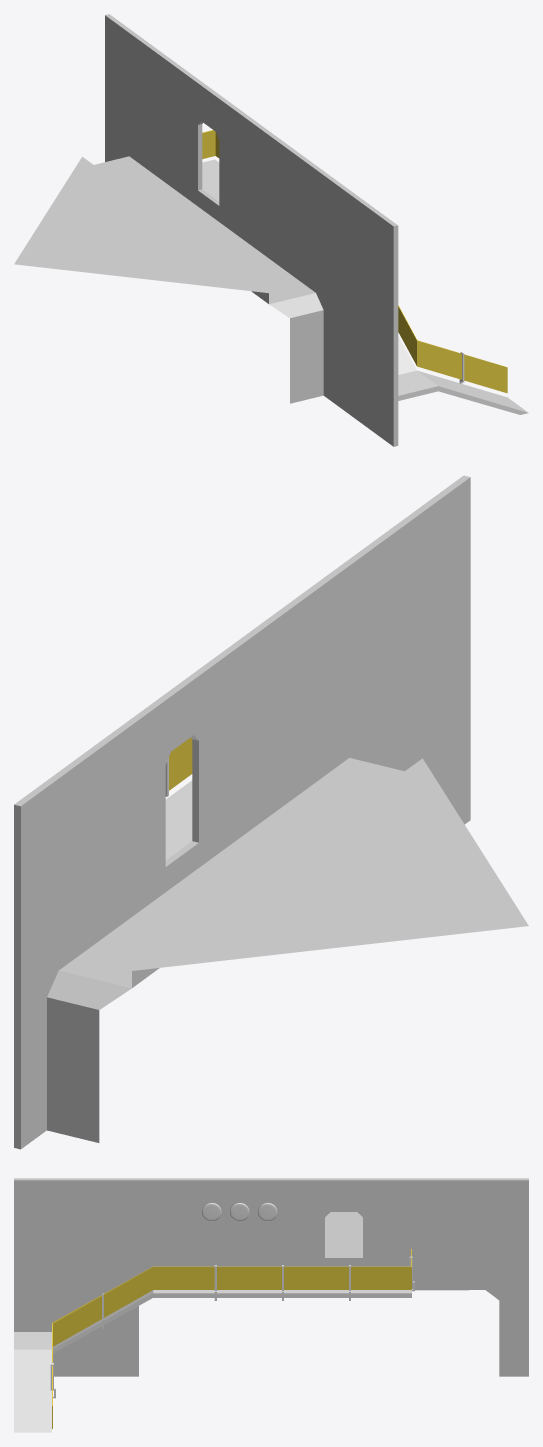
The model's file is StanzaPrincipale_Interno.fbx.
3 views of the same model, one above another, from view 1: azimuth 30°, elevation 25°; view 2: azimuth 150°, elevation 25°; view 3: azimuth 270°, elevation 25° (orthographic). The views are drawn at different scales.
Visible parts, largest first — view 1: Muro, Entrata_prima_stanza, Vetro_Salita_1, Salita_1, Scalinata_disimpegno, Scalinata_dritta, Vetro_Salita_2; view 2: Muro, Entrata_prima_stanza, Scalinata_dritta, Scalinata_Vetri_Lunghi; view 3: Muro, Scalinata_Vetri_Lunghi, Salita_1, Vetro_Salita_2, Entrata_prima_stanza, Scalinata_dritta, Salita_2, Scalinata_disimpegno, Scalinata_Ganci_Vetro.
Boxes of the visible parts, box(x1,y1,x2,y2) form: Muro: box(105, 14, 398, 446); Entrata_prima_stanza: box(14, 156, 323, 403); Vetro_Salita_1: box(417, 340, 507, 393); Salita_1: box(417, 370, 528, 414); Scalinata_disimpegno: box(398, 370, 438, 400); Scalinata_dritta: box(202, 159, 219, 201); Vetro_Salita_2: box(398, 305, 417, 365); Muro: box(14, 475, 470, 1149); Entrata_prima_stanza: box(47, 758, 528, 1142); Scalinata_dritta: box(165, 780, 192, 859); Scalinata_Vetri_Lunghi: box(169, 737, 192, 790); Muro: box(14, 1178, 528, 1376); Scalinata_Vetri_Lunghi: box(153, 1249, 411, 1289); Salita_1: box(14, 1349, 51, 1432); Vetro_Salita_2: box(52, 1267, 152, 1346); Entrata_prima_stanza: box(325, 1212, 362, 1266); Scalinata_dritta: box(153, 1290, 411, 1297); Salita_2: box(53, 1290, 153, 1353); Scalinata_disimpegno: box(14, 1332, 51, 1349); Scalinata_Ganci_Vetro: box(50, 1256, 414, 1398).
Bounding box in the file's own units: 633 × 388 × 921.
